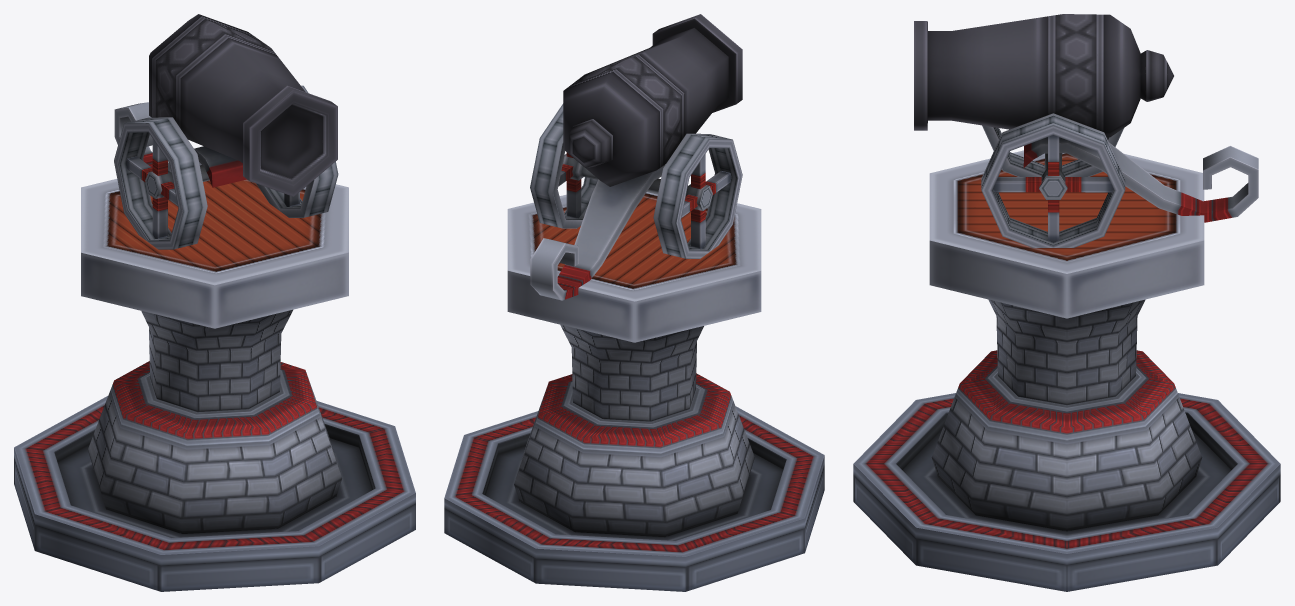
File: CannonTower_Level1_F.FBX
3 views of the same model, side by side, from view 1: azimuth 30°, elevation 25°; view 2: azimuth 150°, elevation 25°; view 3: azimuth 270°, elevation 25° (orthographic). The views are drawn at different scales.
Visible parts, largest first — view 1: CannonTower_Level1, CannonTower_Cannon001; view 2: CannonTower_Level1, CannonTower_Cannon001; view 3: CannonTower_Level1, CannonTower_Cannon001.
Part boxes in pixels (x1,y1,x2,y2): CannonTower_Level1: (14, 179, 415, 591); CannonTower_Cannon001: (114, 14, 338, 249); CannonTower_Level1: (444, 192, 824, 591); CannonTower_Cannon001: (530, 14, 742, 300); CannonTower_Level1: (853, 150, 1280, 591); CannonTower_Cannon001: (914, 14, 1258, 247).
Bounding box in the file's own units: 55.48 × 70.21 × 55.48.
